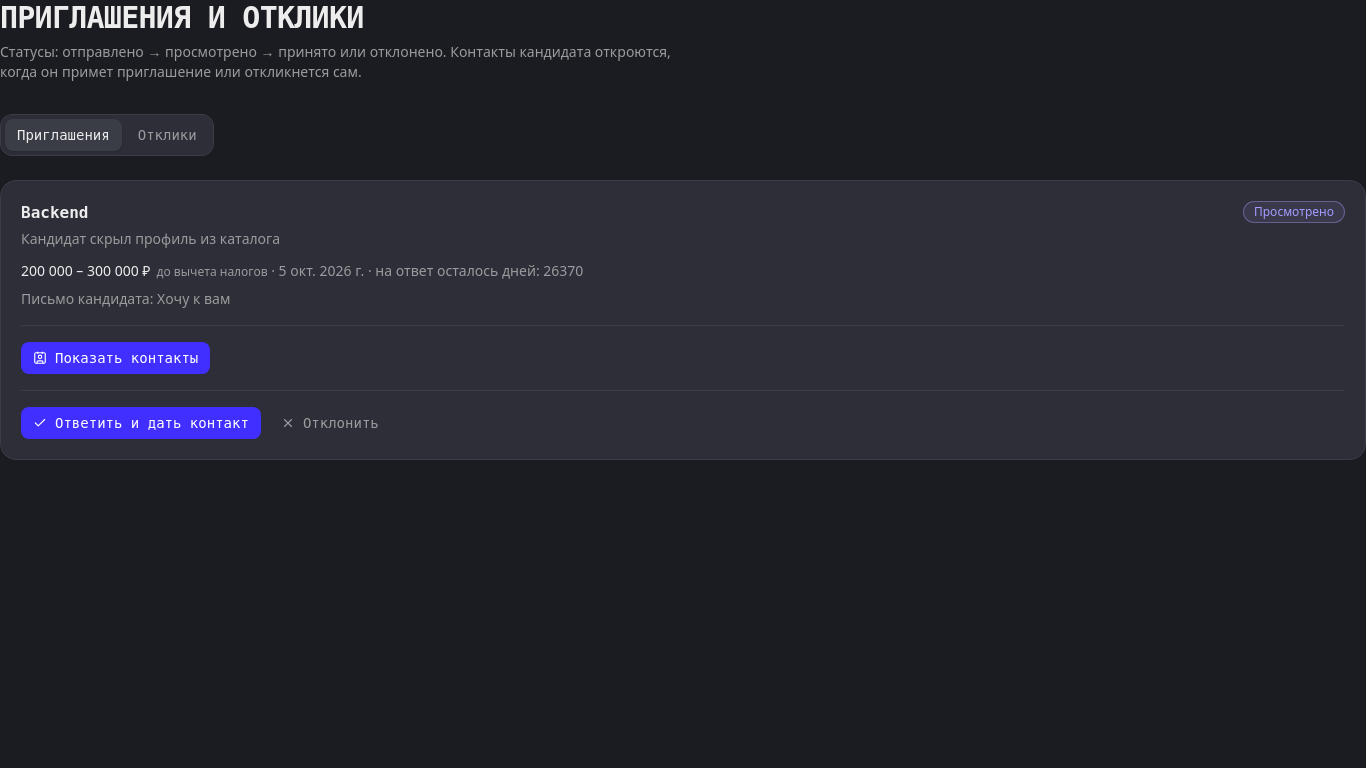
Test: employer contact flow › answers a response with a contact and reveals candidate contacts
Click the radio button labelled "Отклики" at (167, 135), box left=126, top=119, right=209, bottom=151
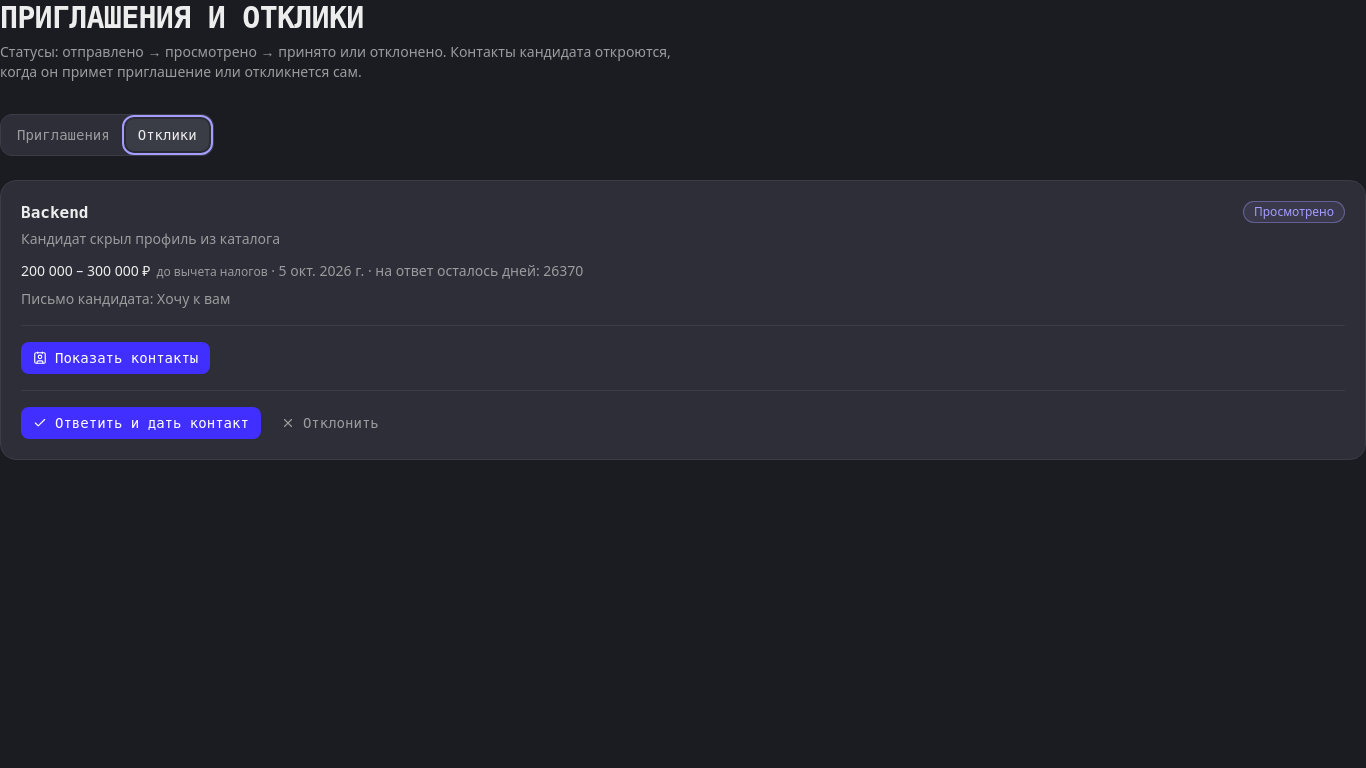
Expected: the text "Письмо кандидата: Хочу к вам" is shown, left=21, top=289, right=230, bottom=308
Click the button "Показать контакты" at (116, 358), box left=21, top=342, right=210, bottom=374
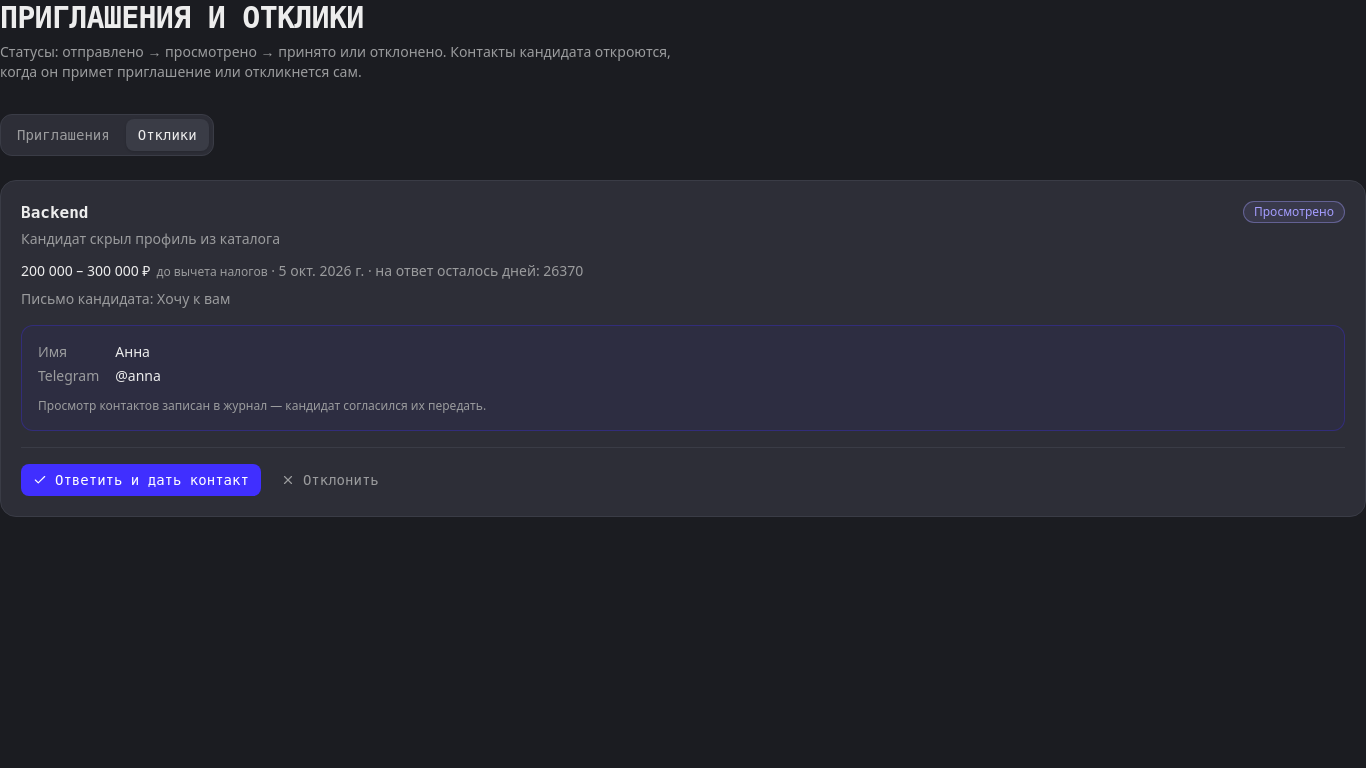
Result: the text "@anna" is shown at left=115, top=366, right=161, bottom=385
Click the button "Ответить и дать контакт" at (141, 480), box left=21, top=464, right=261, bottom=496
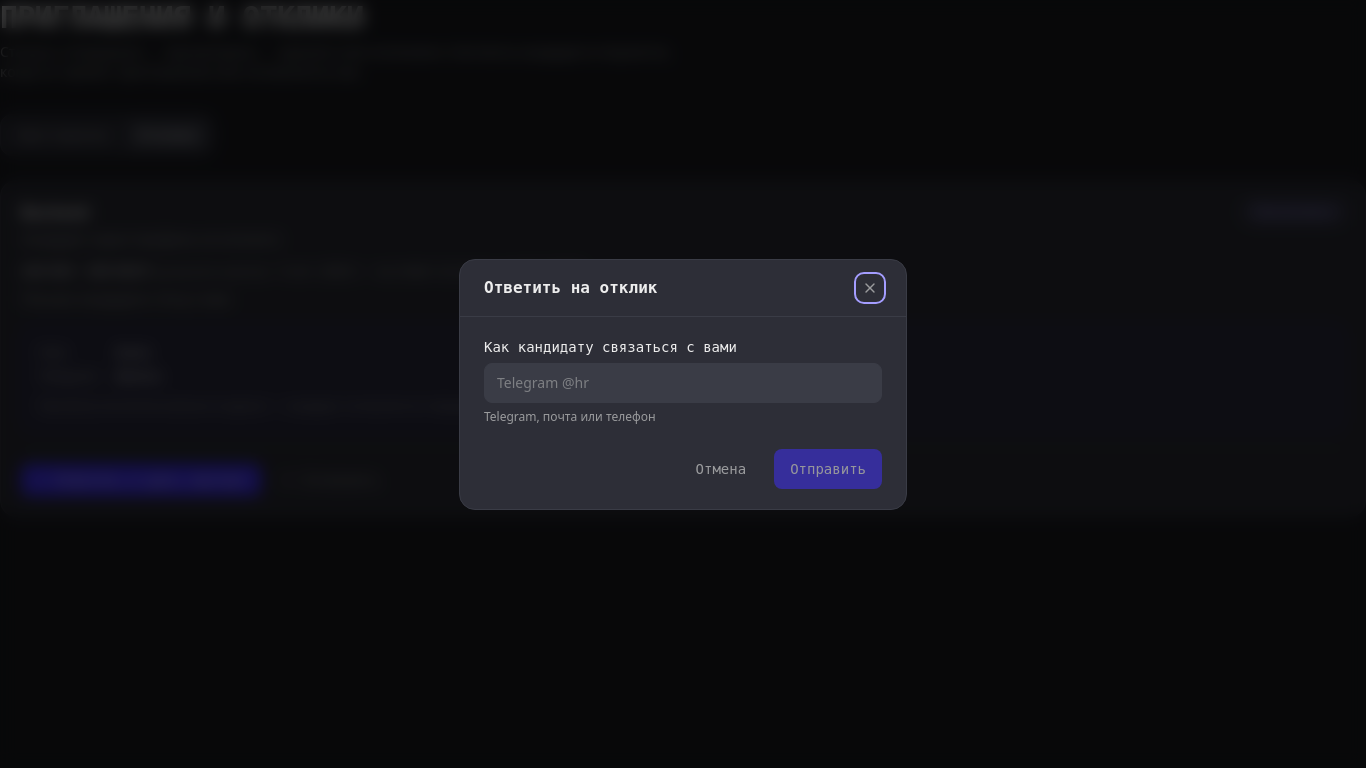
Type "hr@naim.ru" into the field labelled "Как кандидату связаться с вами" at (683, 382), box left=484, top=362, right=882, bottom=402
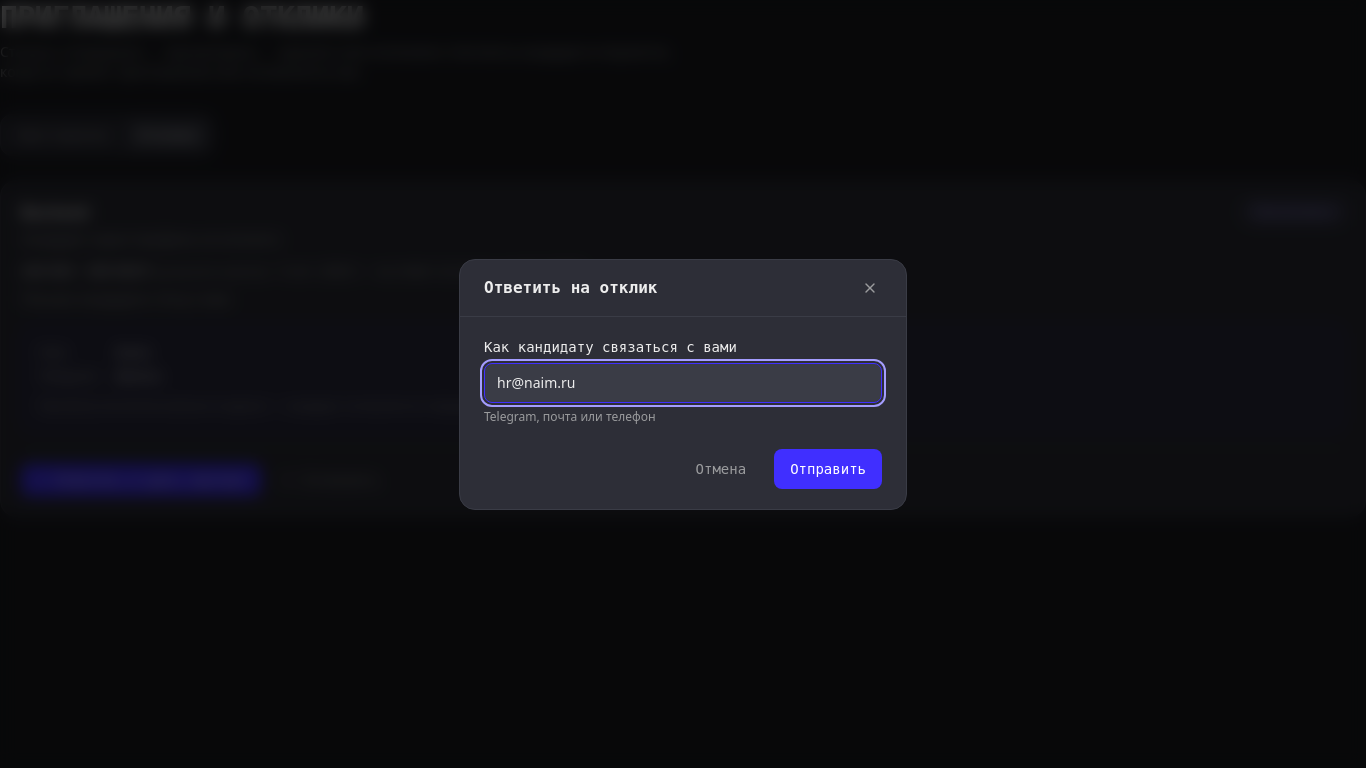
Click the button "Отправить" at (828, 468), box left=774, top=448, right=882, bottom=488
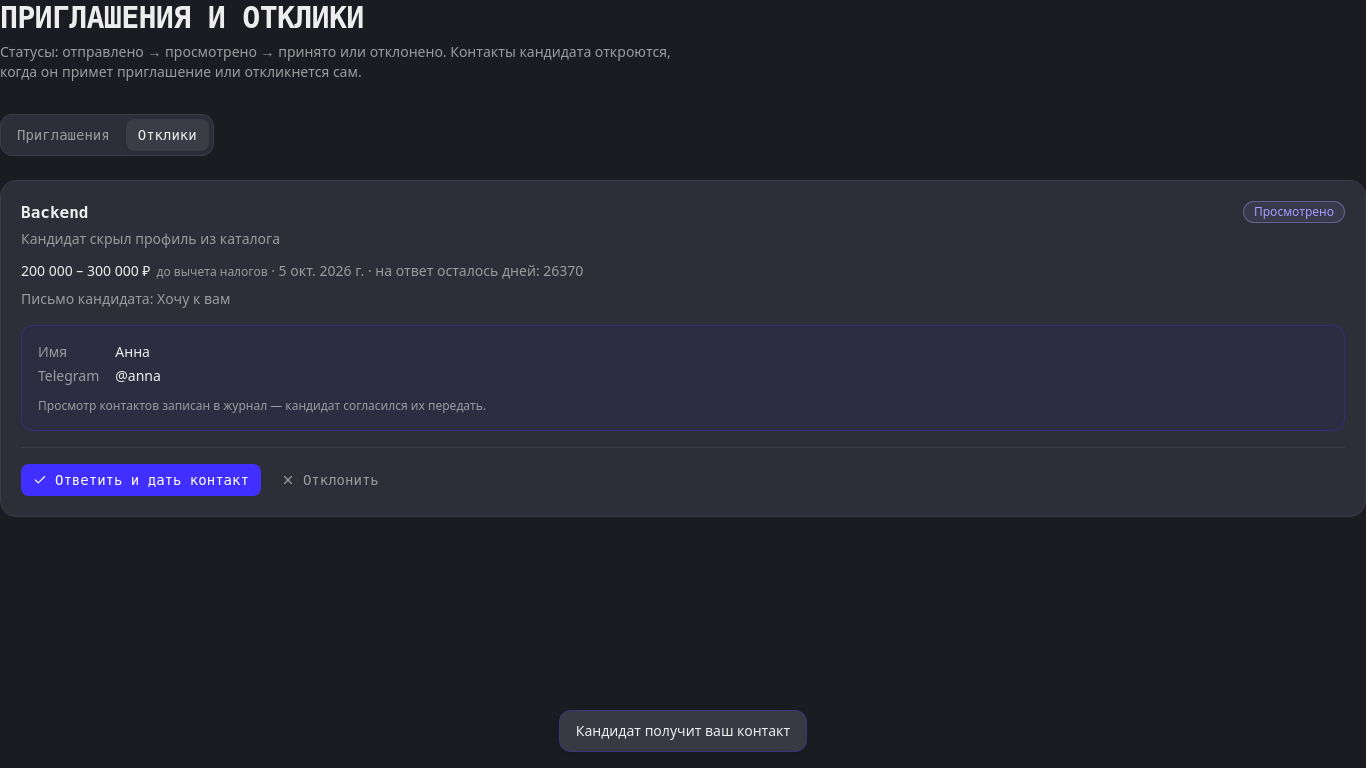
Result: the text "Кандидат получит ваш контакт" is shown at left=559, top=710, right=807, bottom=752
